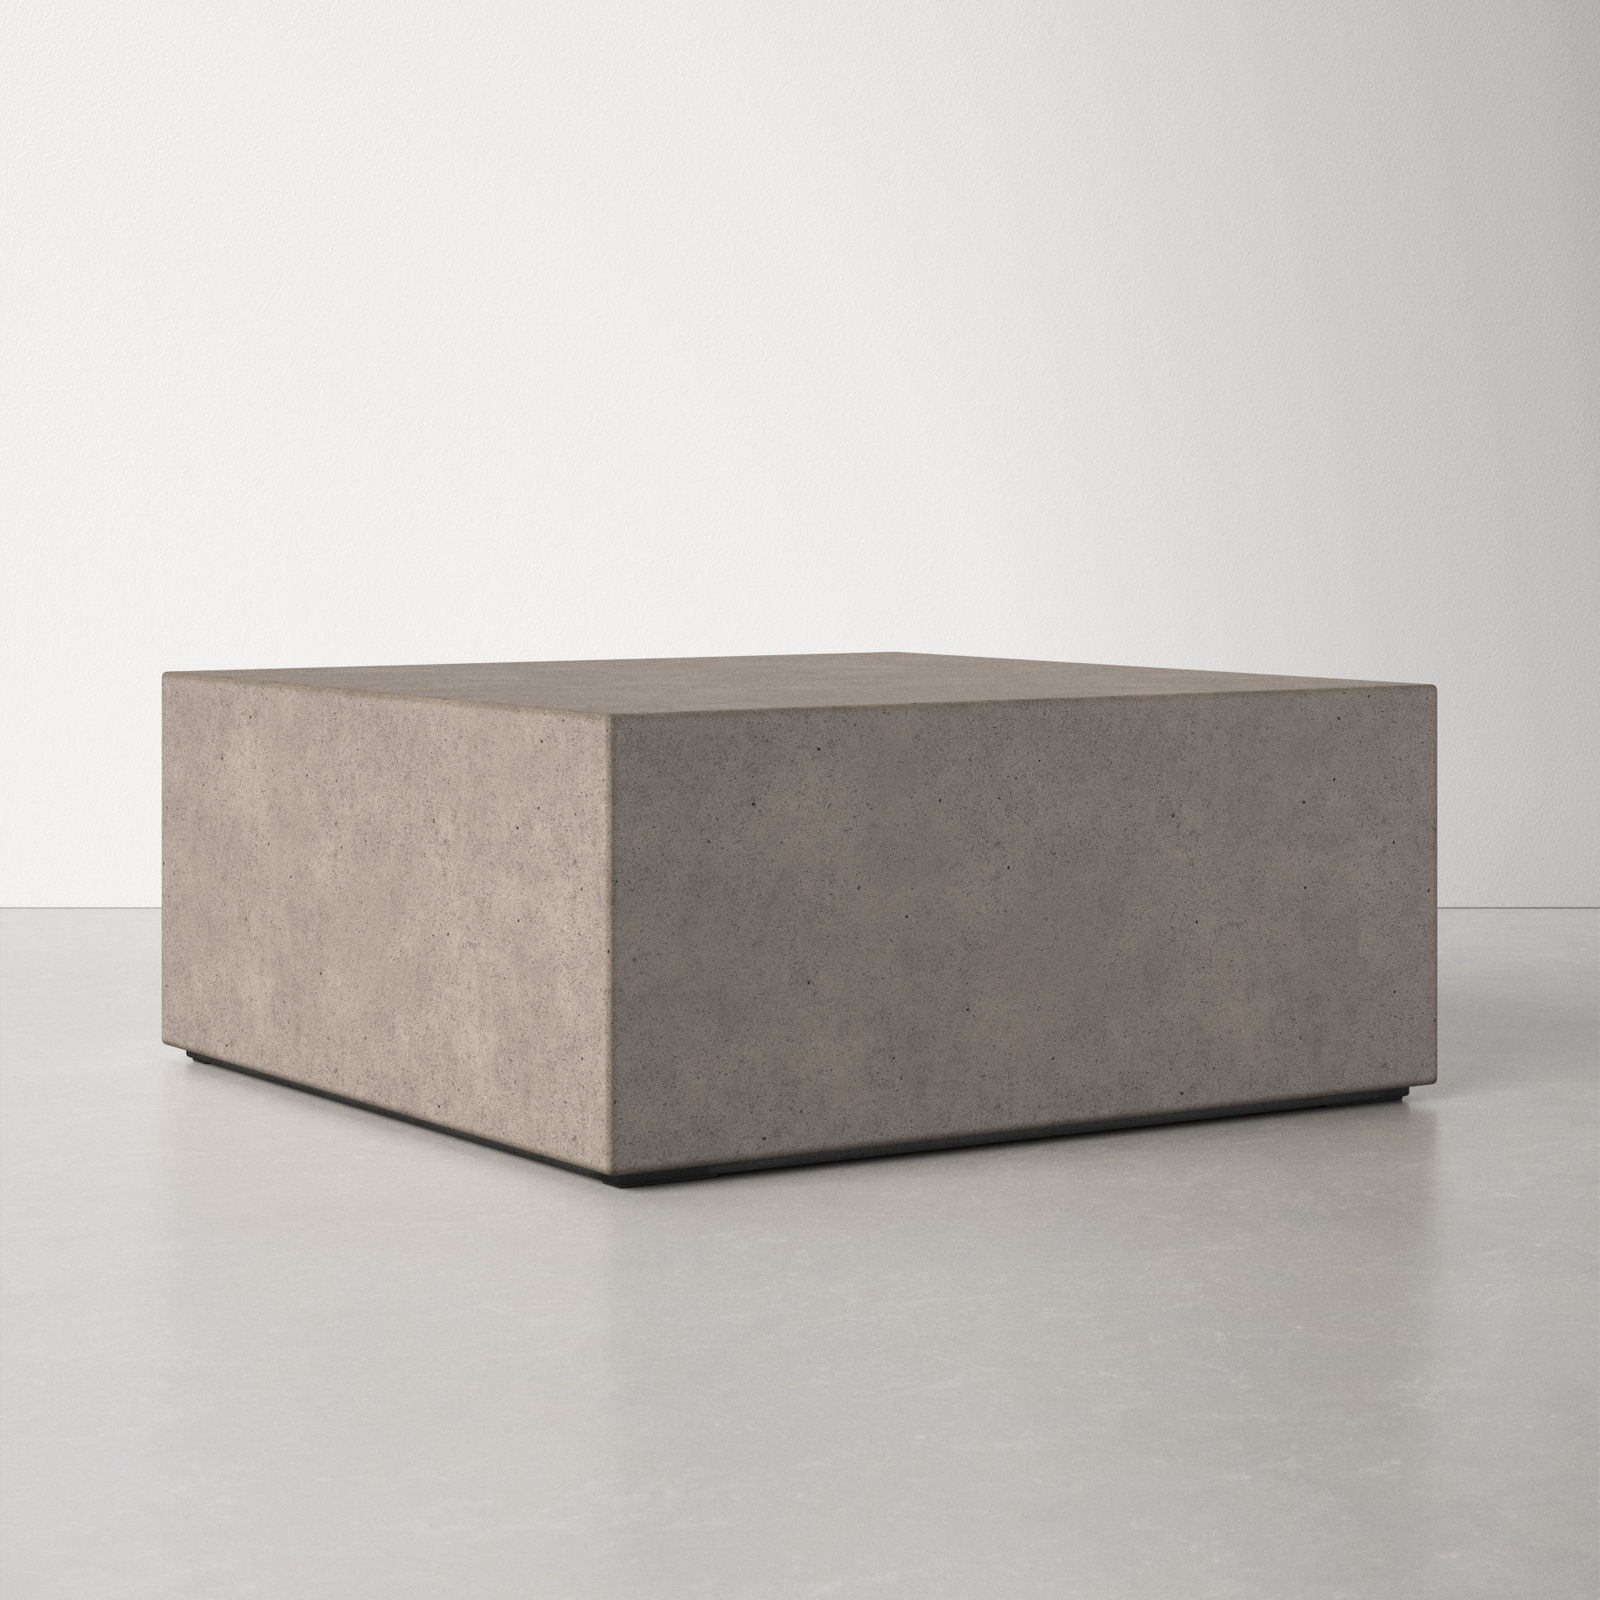obstacle: (163, 653, 1434, 1178)
